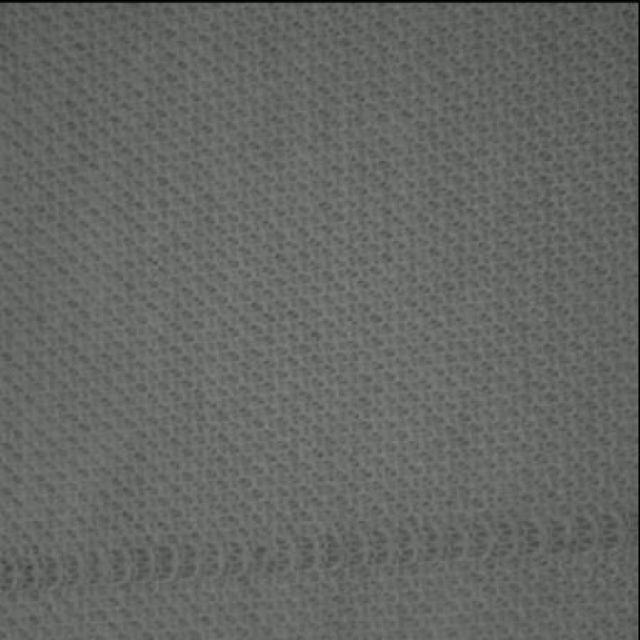Line: (1, 509, 634, 594)
